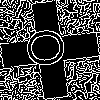O: (25, 25, 76, 69)
